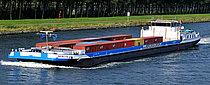Ship: (5, 17, 205, 74)
